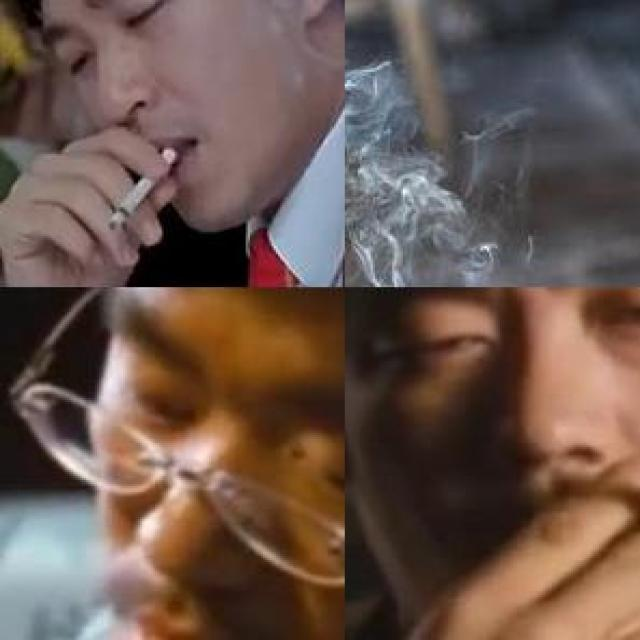smoke: (109, 144, 180, 230), (620, 426, 638, 542)
